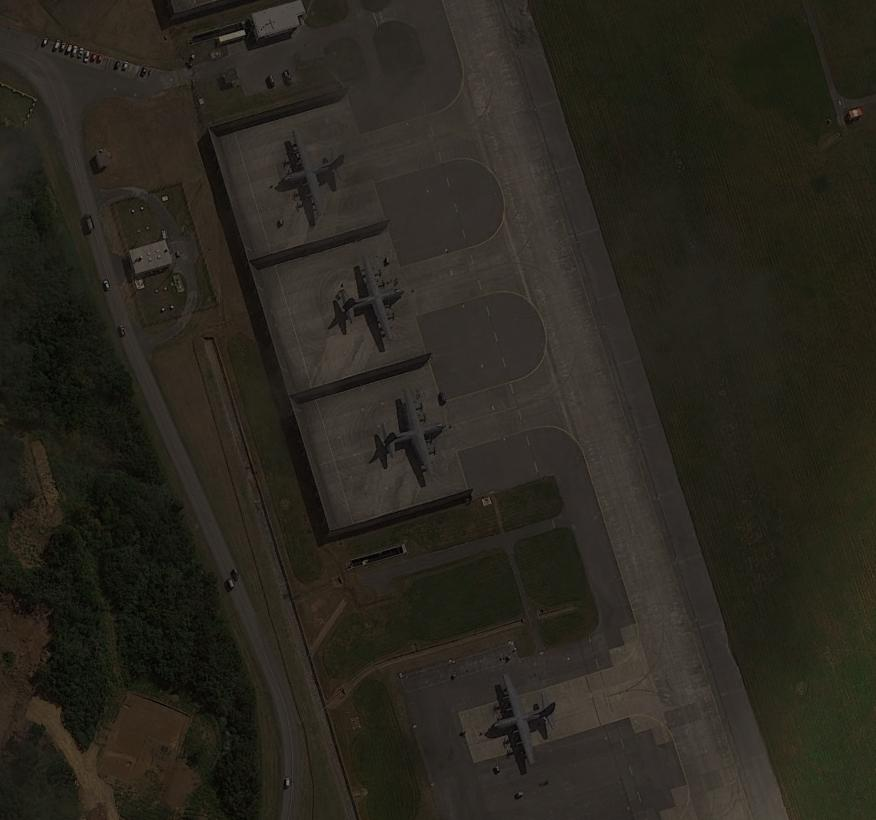A2: (263, 122, 361, 225), (317, 252, 410, 344), (363, 391, 456, 483), (480, 676, 565, 765)
